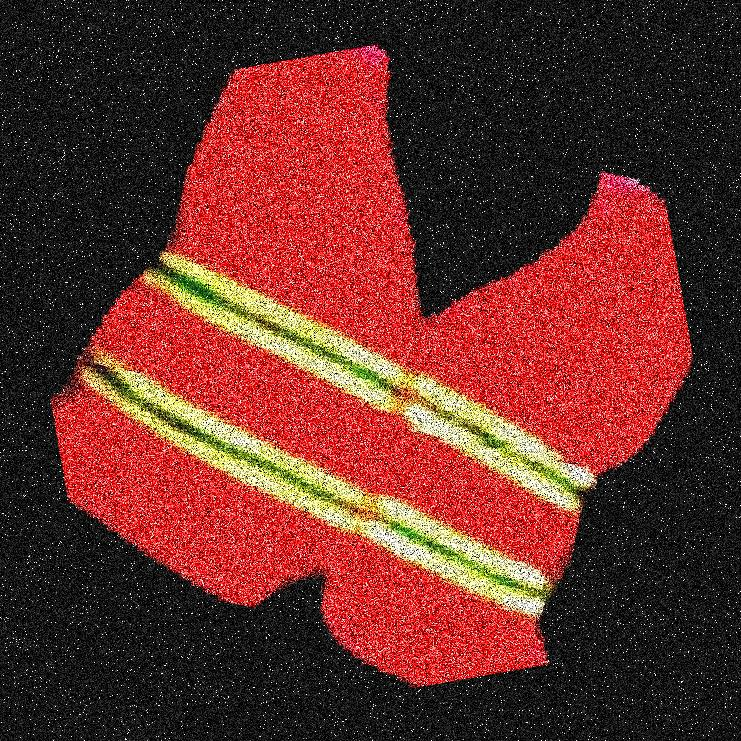Colete: (482, 0, 685, 740)
